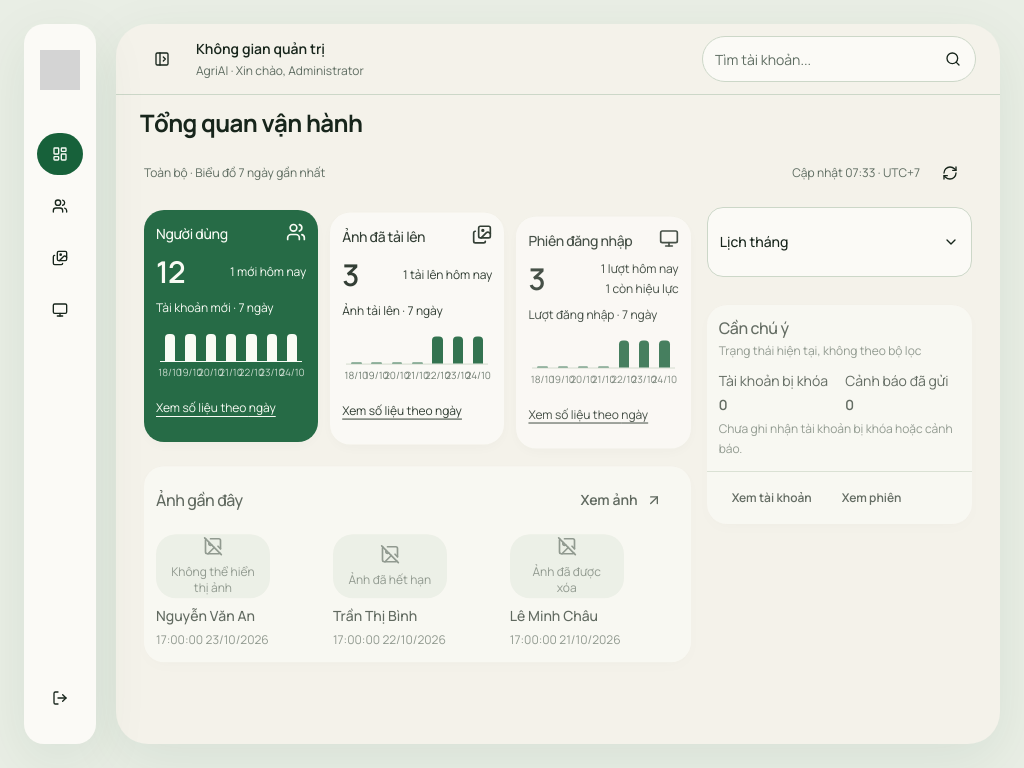
Test: Admin mock workspace with real authentication › simulates deleting an image without changing the authenticated session
Expected: the heading "Tổng quan vận hành" is shown, [140,106,362,139]
Click the button named "Ảnh đã tải lên": (60, 258) [36,236,84,280]
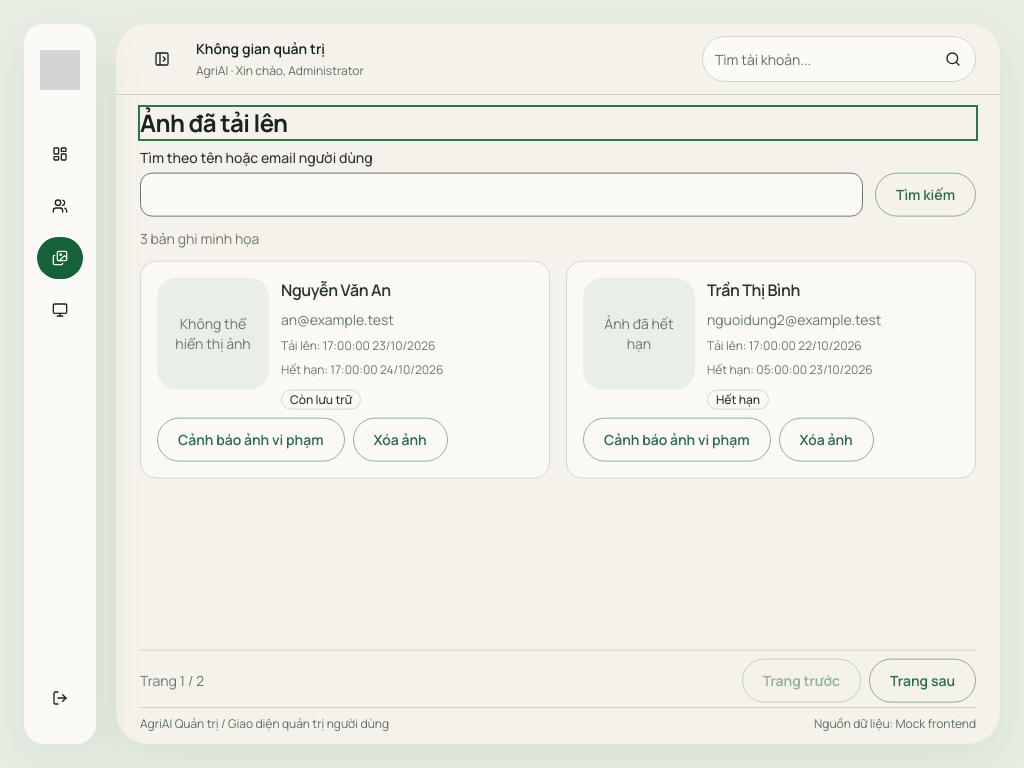
Click the button "Xóa ảnh" below "Còn lưu trữ": (400, 440) [352,418,448,462]
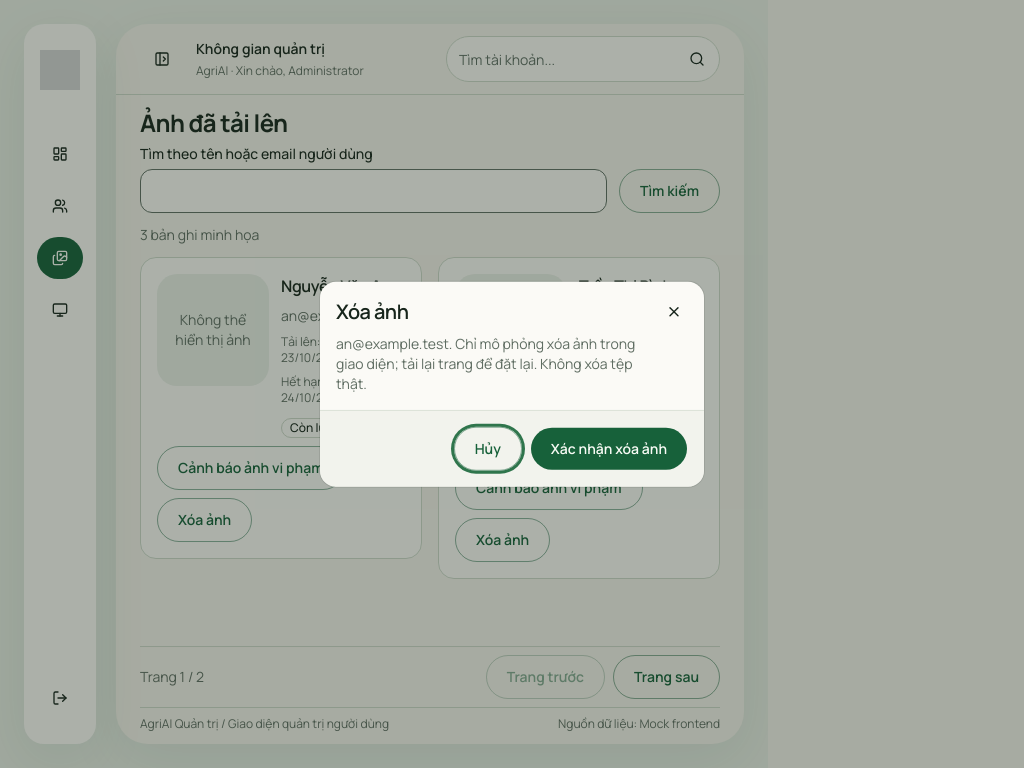
Click the button "Xác nhận xóa ảnh": (609, 448) [530,426,688,470]
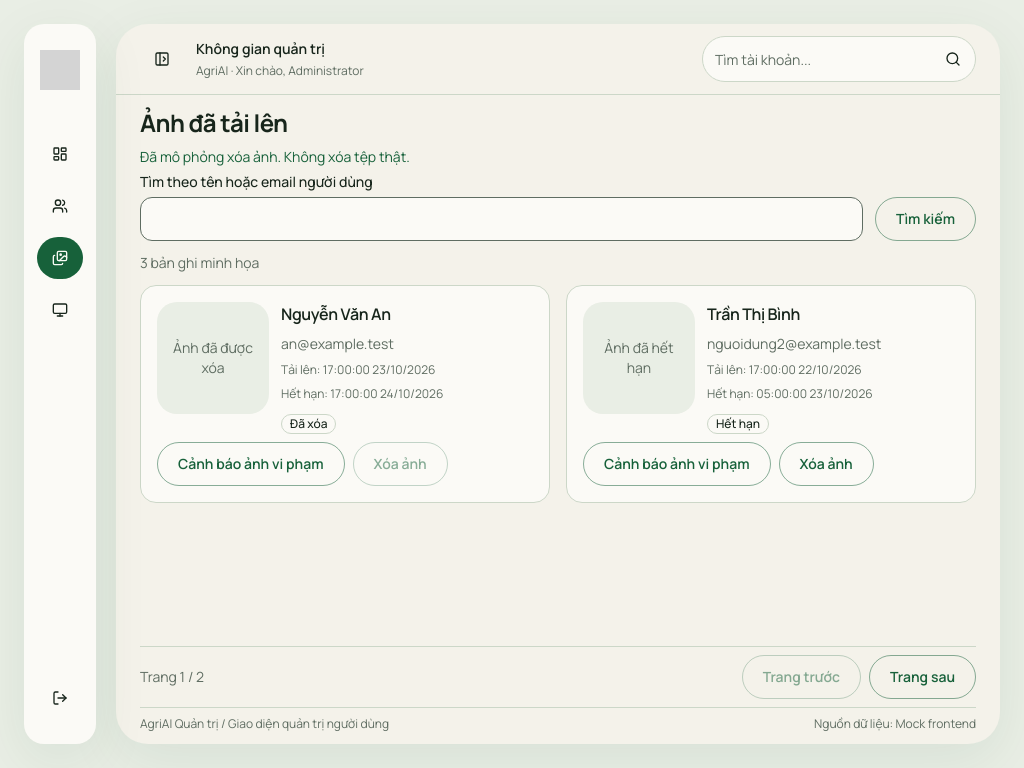
Result: the button "Xóa ảnh" below "Đã xóa" is disabled at [352,442,448,486]
